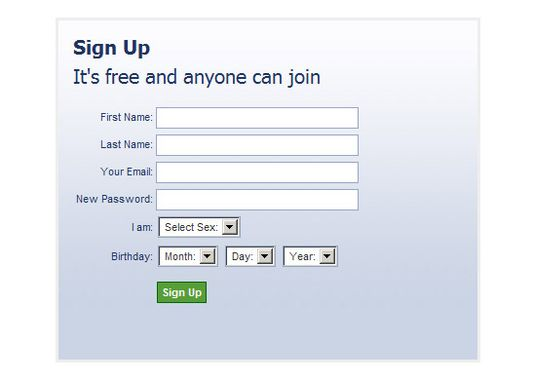_form_: (22, 1, 438, 380)
button: (156, 281, 209, 305)
field: (152, 106, 359, 130), (152, 188, 359, 212), (154, 134, 360, 158), (154, 161, 359, 184), (156, 215, 241, 239), (156, 245, 218, 269), (281, 245, 340, 268), (224, 245, 277, 268)
field_with_label: (75, 187, 361, 214), (99, 105, 361, 131), (101, 133, 361, 159), (101, 159, 361, 185), (111, 244, 220, 271), (130, 214, 242, 240)
